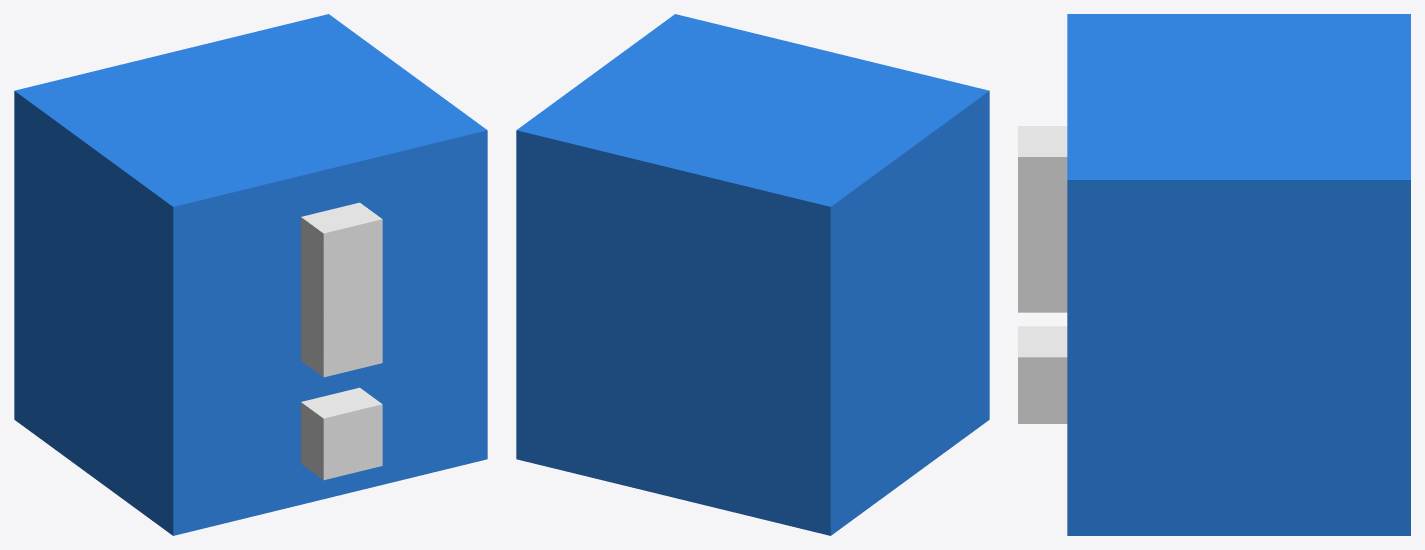
File: cube-tip.glb
3 renders of one model, left to right at view 1: azimuth 30°, elevation 25°; view 2: azimuth 150°, elevation 25°; view 3: azimuth 270°, elevation 25°, orthographic. The views are drawn at different scales.
Visible parts, largest first — view 1: cube-tip; view 2: cube-tip; view 3: cube-tip.
Part boxes in pixels (bbox=[...]): cube-tip: bbox=[14, 14, 487, 535]; cube-tip: bbox=[516, 14, 989, 535]; cube-tip: bbox=[1018, 14, 1410, 535].
Bounding box in the file's own units: 1 × 1 × 1.
Materials: 1 (1 with a texture image).
